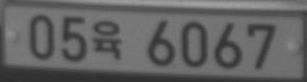0: (181, 21, 207, 66), (30, 14, 53, 59)
5: (61, 16, 86, 60)
6: (215, 23, 242, 69), (147, 21, 174, 65)
7: (246, 23, 275, 68)
육: (92, 21, 122, 59)
